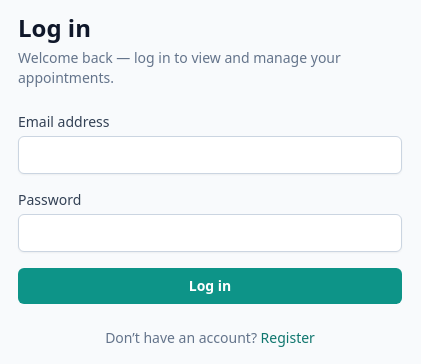
Test: LoginPage › submits credentials and logs in successfully
Type "test@example.com" into the field labelled "Email address" at [210, 155], box [18,136,402,174]
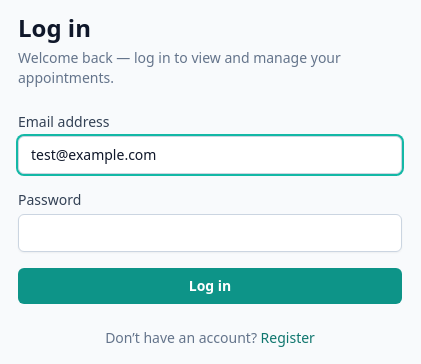
Type "correct-password" into the password field labelled "Password" at [210, 233], box [18,214,402,252]
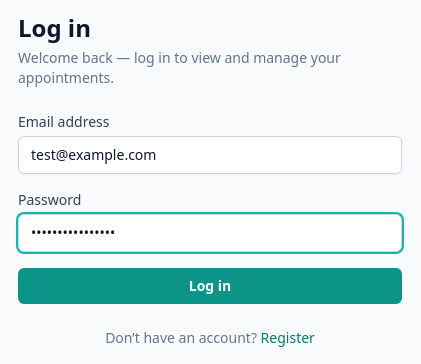
Click the button "Log in" at [210, 286], box [18,268,402,304]
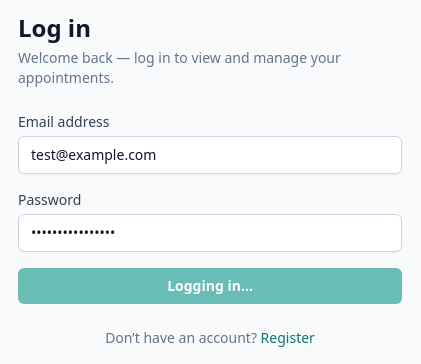
expect the button "Logging in…" is shown: met, box [18,268,402,304]
